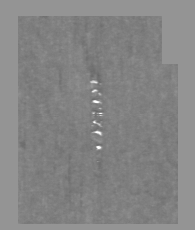oxl: (35, 10, 160, 220)
